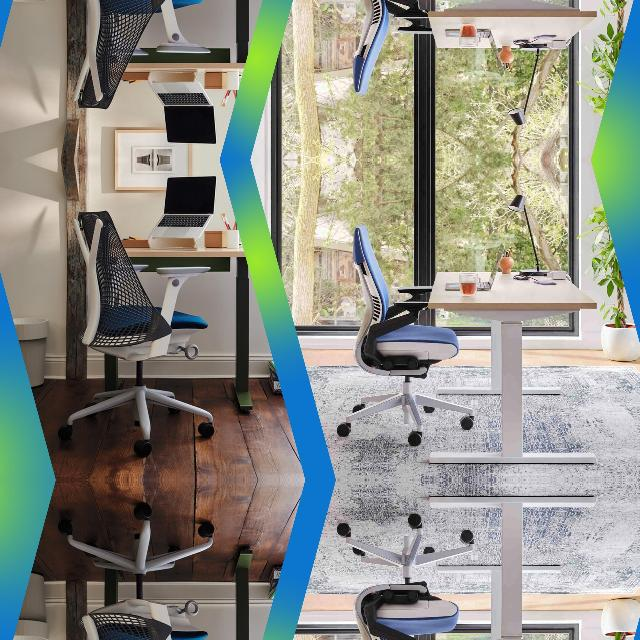obstacle: (62, 198, 228, 466), (334, 213, 458, 447), (61, 494, 228, 640), (61, 0, 228, 121), (334, 513, 458, 640), (334, 0, 458, 107)
